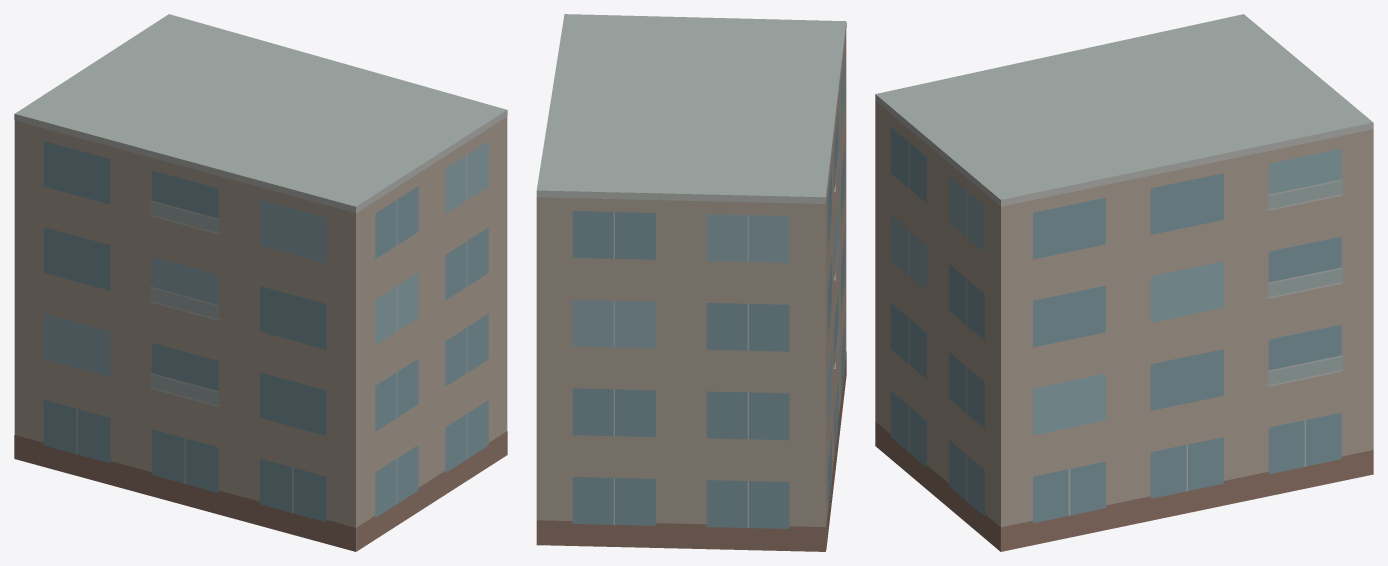
Rendered from survey-upis-32641497.glb.
The picture shows the model from 3 angles, left to right: view 1: azimuth 30°, elevation 25°; view 2: azimuth 150°, elevation 25°; view 3: azimuth 270°, elevation 25°; orthographic projection. The views are drawn at different scales.
Visible parts, largest first — view 1: survey-upis-32641497.tmp; view 2: survey-upis-32641497.tmp; view 3: survey-upis-32641497.tmp.
Part boxes in pixels (<box>): survey-upis-32641497.tmp: <box>14,14,507,551</box>; survey-upis-32641497.tmp: <box>536,14,846,551</box>; survey-upis-32641497.tmp: <box>875,14,1373,551</box>.
Bounding box in the file's own units: 14.46 × 12.75 × 16.37.
